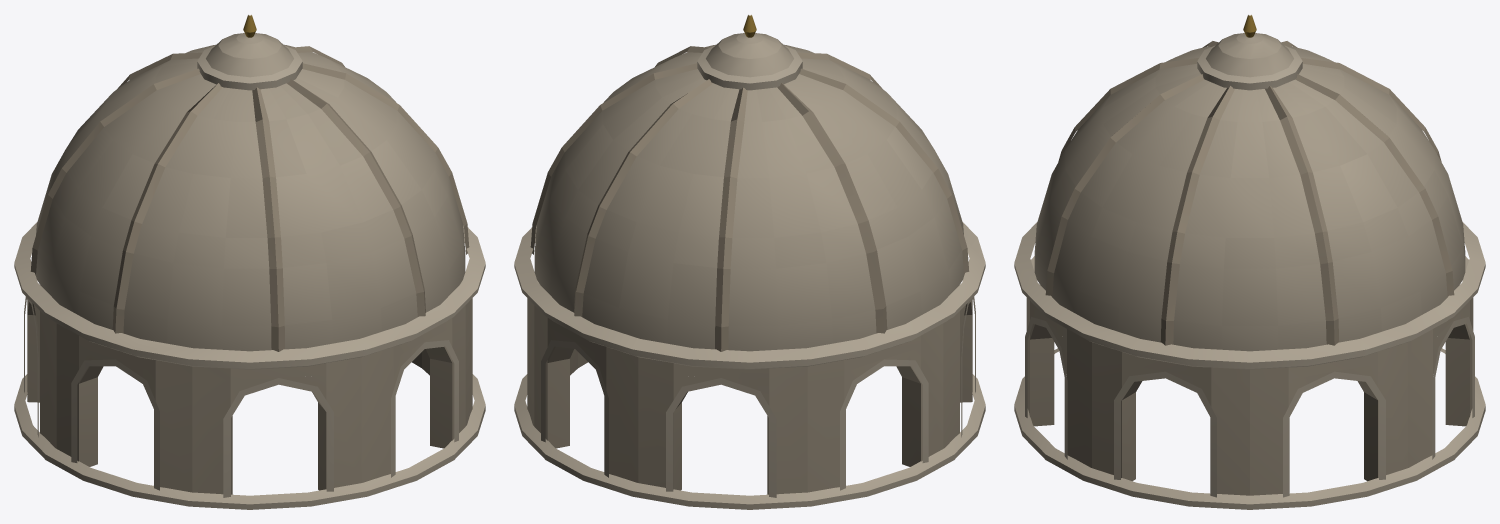
The model's file is dome.whole_8.stone.glb.
3 renders of one model, left to right at view 1: azimuth 30°, elevation 25°; view 2: azimuth 150°, elevation 25°; view 3: azimuth 270°, elevation 25°, orthographic.
Visible parts, largest first — view 1: dome_whole_8_stone; view 2: dome_whole_8_stone; view 3: dome_whole_8_stone.
Part boxes in pixels (x1,y1,x2,y2): dome_whole_8_stone: (14,15,485,509); dome_whole_8_stone: (514,15,985,509); dome_whole_8_stone: (1014,15,1485,509).
Size of what is drawn, in the model's own units: 7.6 by 7.03 by 7.6.
